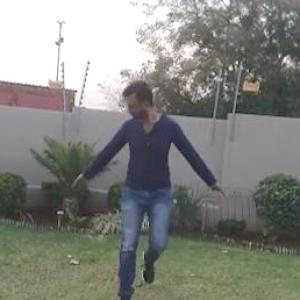land: (68, 72, 235, 299)
